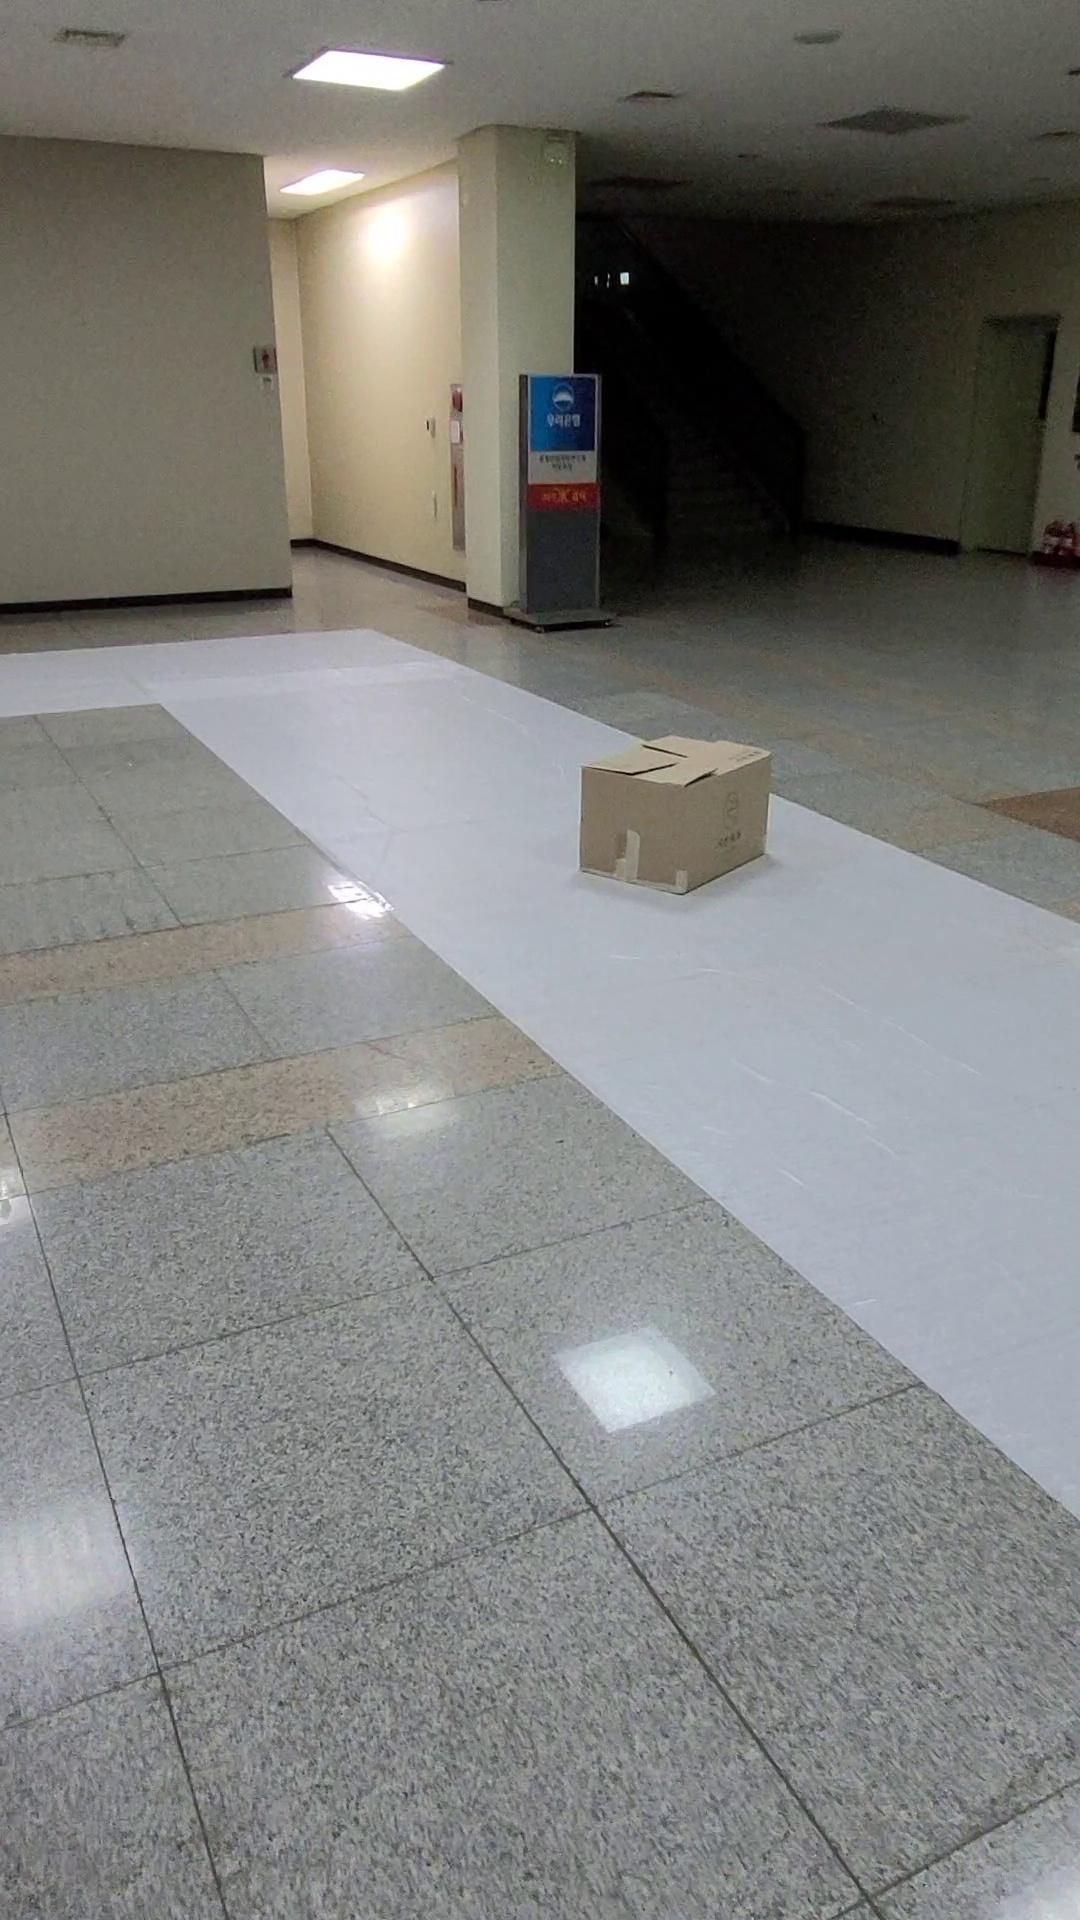Box: (568, 723, 796, 903)
